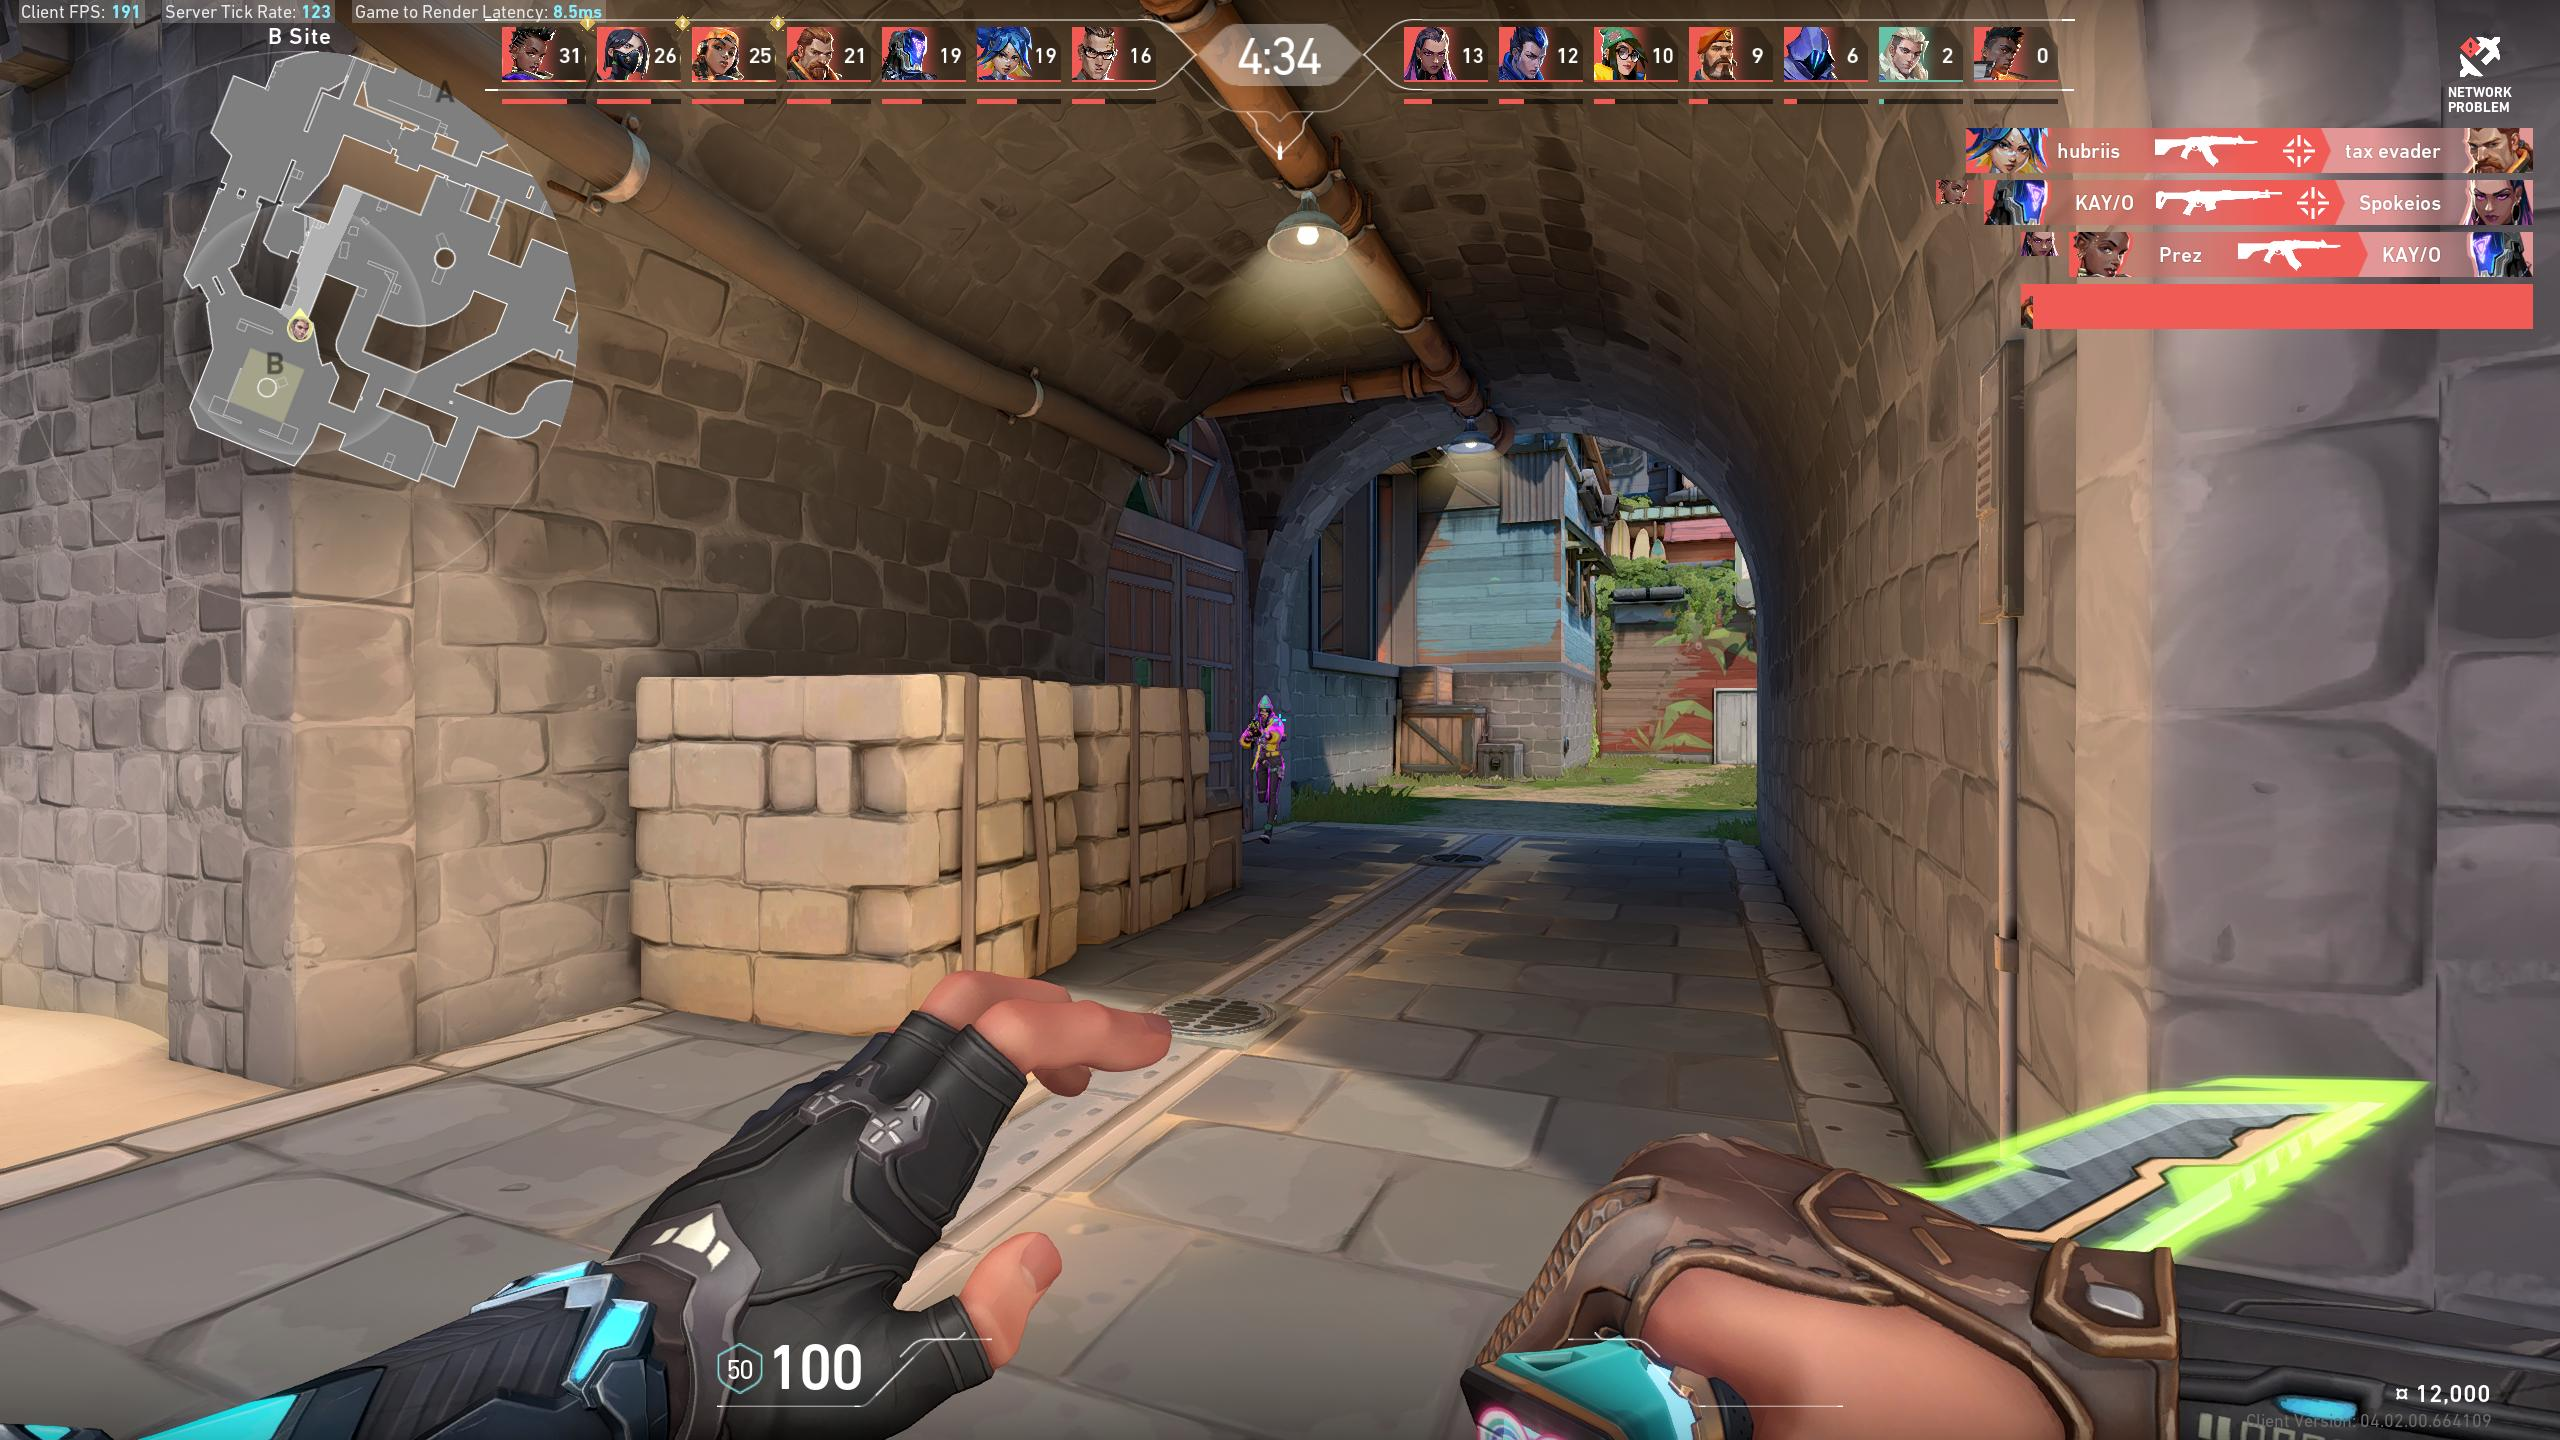enemyBody: (1259, 724, 1273, 754)
enemyHead: (1261, 707, 1269, 721)
